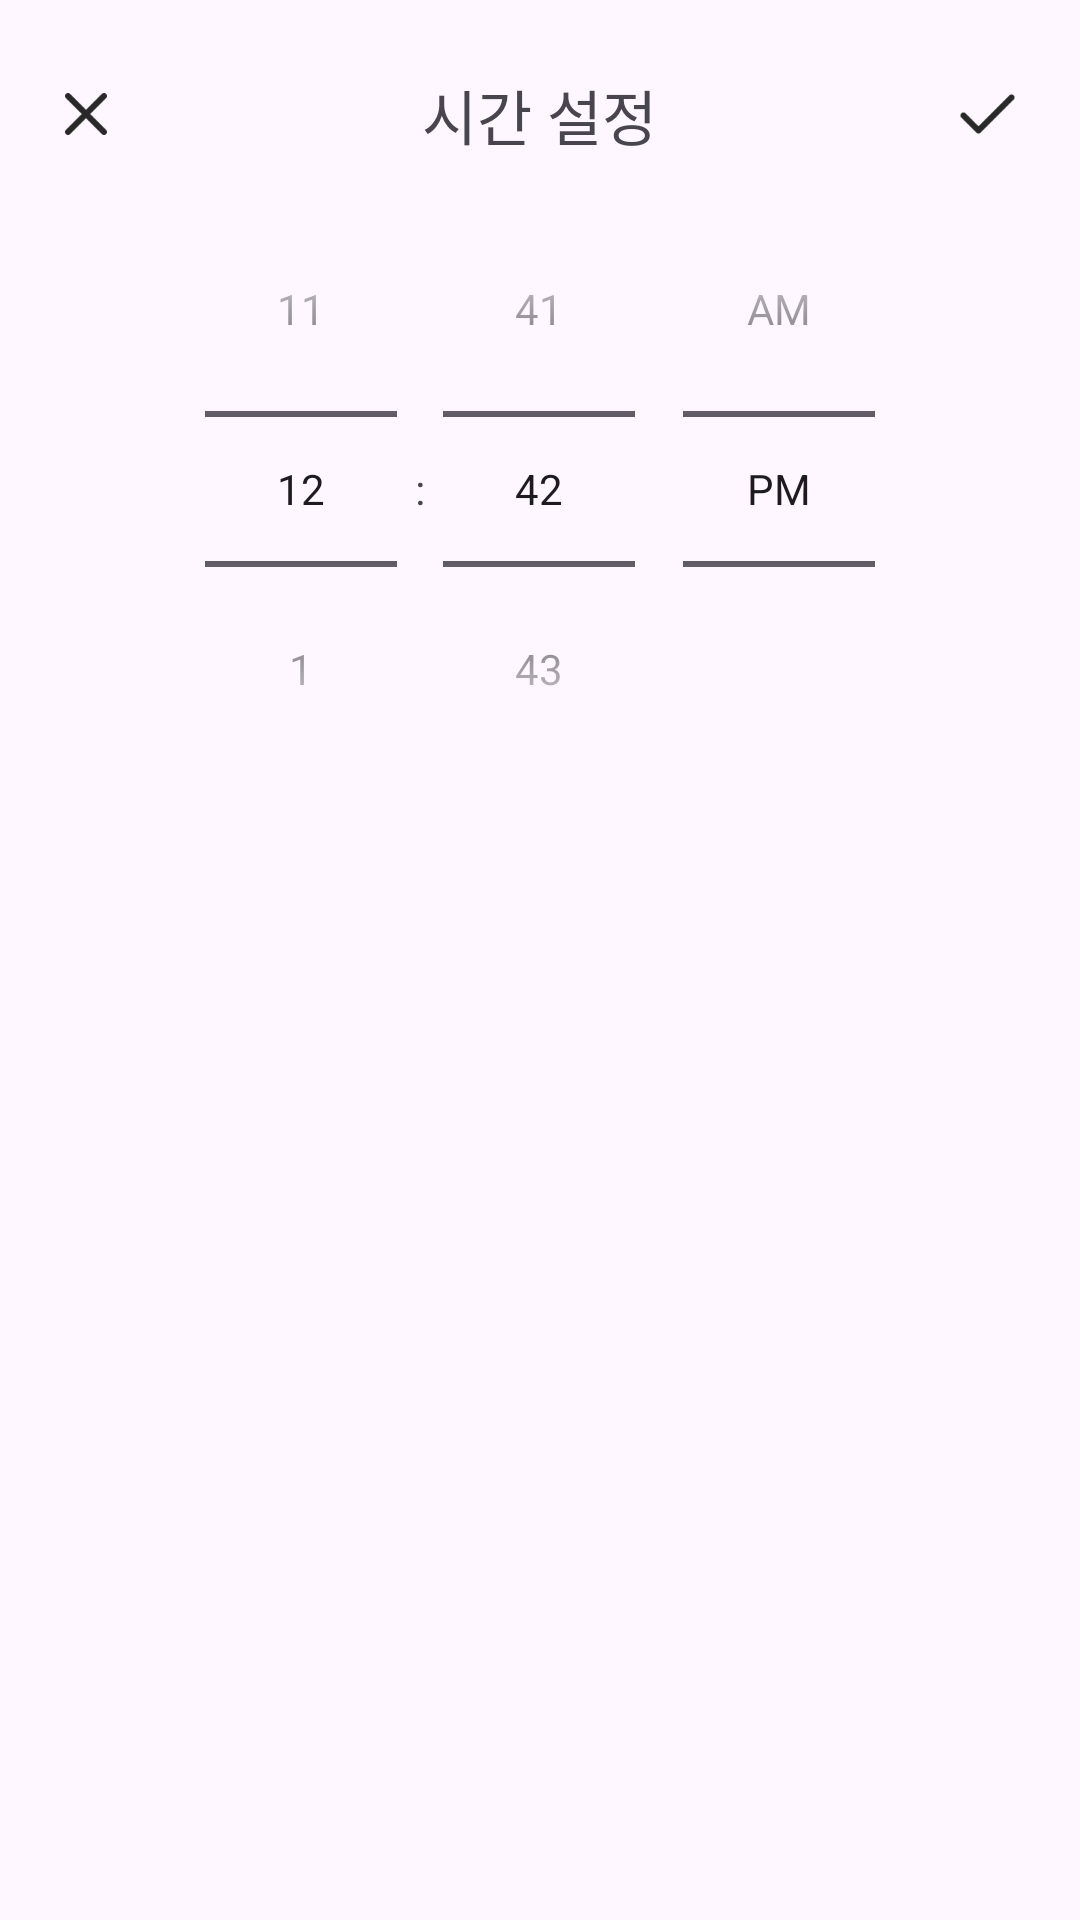

Screen size 1080 x 1920. Icon name, then its center in pixels as [x,y]:
check: [987,114]
close: [86,114]
